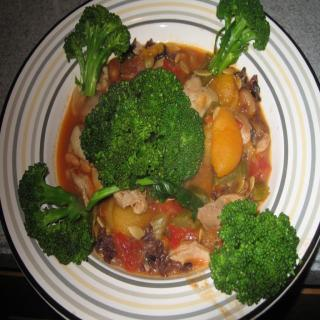Broccoli: (78, 66, 206, 186), (17, 161, 160, 265), (209, 196, 304, 306), (62, 3, 130, 95), (208, 0, 271, 76)
